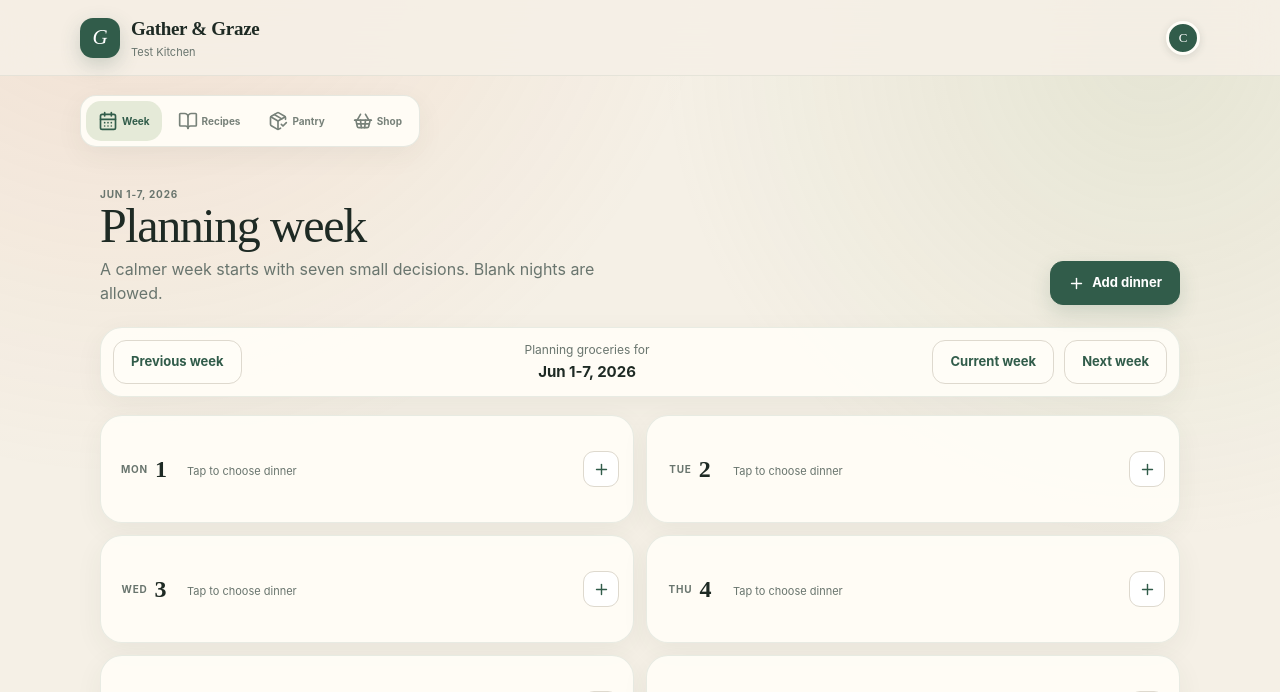
Scenario: DinnerPlannerApp recipe editing and labels › labels public and saved recipes in the week picker
The width and height of the screenshot is (1280, 692).
Click the button "Add dinner".
click(1115, 283)  # box [1050,261,1180,305]
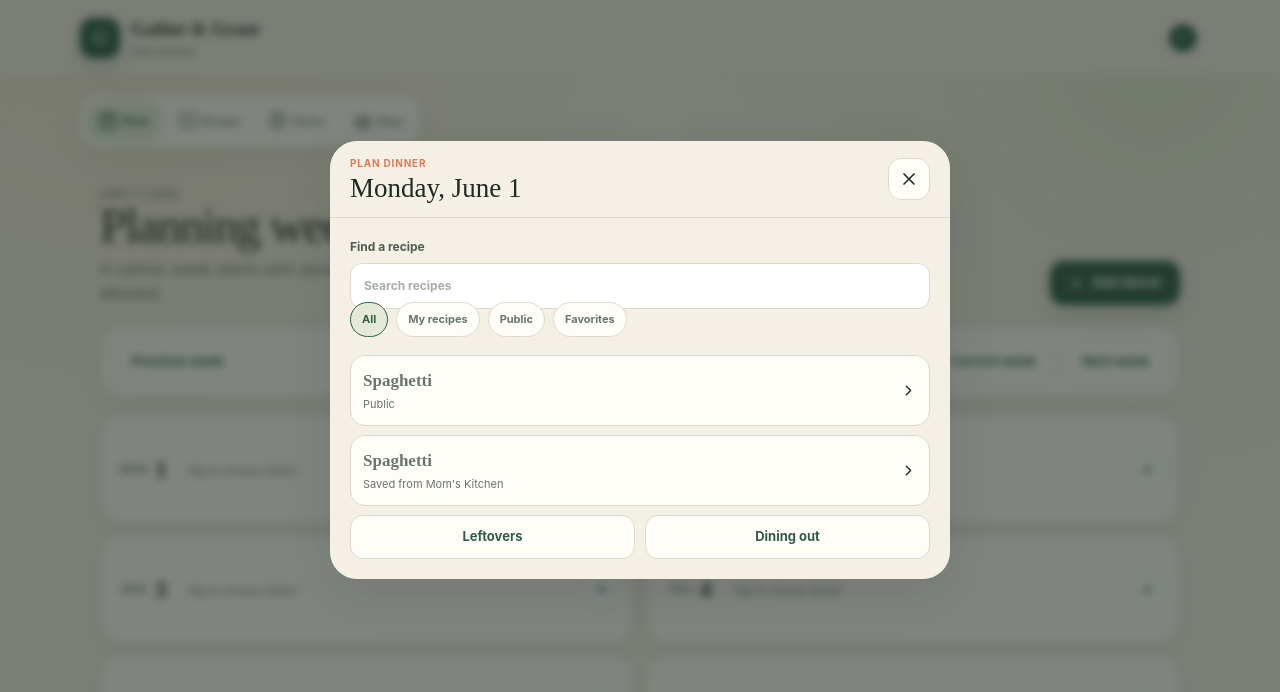
Now the text "Saved from Mom's Kitchen" is shown, box [363,477,503,491]
